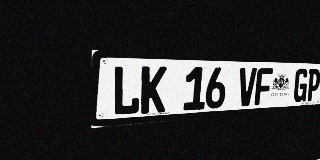1: (183, 67, 207, 111)
6: (205, 67, 227, 109)
F: (254, 68, 273, 105)
G: (293, 68, 309, 102)
K: (140, 66, 167, 114)
L: (112, 66, 141, 116)
P: (306, 69, 320, 101)
V: (237, 68, 257, 107)
